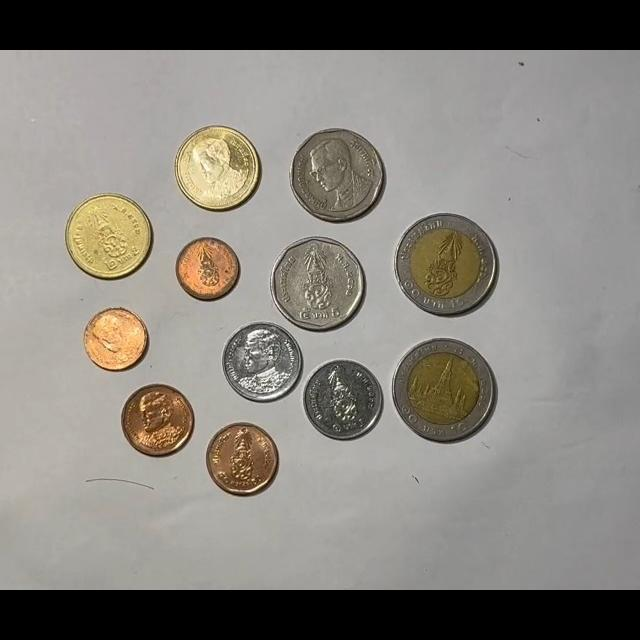1-baht: (302, 359, 385, 441), (222, 322, 303, 402)
10-baht: (393, 212, 498, 316), (391, 338, 496, 442)
2-baht: (175, 125, 262, 212), (65, 193, 152, 280)
25-satang: (84, 304, 150, 369), (176, 237, 241, 301)
5-baht: (271, 236, 366, 332), (290, 127, 385, 222)
50-satang: (206, 423, 280, 495), (122, 383, 195, 455)
